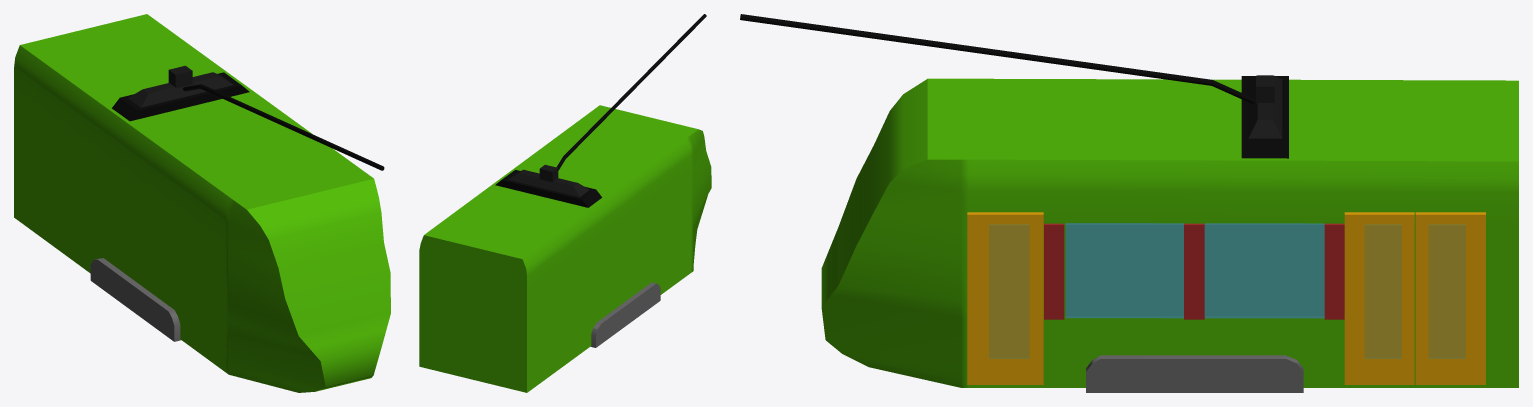
File: Twam.fbx
3 renders of one model, left to right at view 1: azimuth 30°, elevation 25°; view 2: azimuth 150°, elevation 25°; view 3: azimuth 270°, elevation 25°, orthographic. The views are drawn at different scales.
Visible parts, largest first — view 1: pCube1, pCube7, pCube3, pCube4, pCylinder3, pCube6; view 2: pCube1, pCube7, pCube3, pCube4, pCylinder3, pCube6; view 3: pCube1, pCube10, pCube13, pCube11, pCube17, pCube18, pCube5, pCylinder3, pCube19, pCube16, pCube14, pCube3 (+1 smaller).
Boxes of the visible parts, x1=… form: pCube1: x1=14, y1=14, x2=390, y2=392; pCube7: x1=90, y1=258, x2=181, y2=341; pCube3: x1=112, y1=72, x2=249, y2=121; pCube4: x1=128, y1=72, x2=233, y2=107; pCylinder3: x1=183, y1=84, x2=384, y2=170; pCube6: x1=168, y1=65, x2=192, y2=88; pCube1: x1=419, y1=105, x2=711, y2=392; pCube7: x1=590, y1=282, x2=660, y2=347; pCube3: x1=495, y1=170, x2=601, y2=207; pCube4: x1=508, y1=169, x2=589, y2=197; pCylinder3: x1=556, y1=14, x2=706, y2=170; pCube6: x1=539, y1=164, x2=558, y2=182; pCube1: x1=821, y1=78, x2=1518, y2=387; pCube10: x1=967, y1=212, x2=1043, y2=384; pCube13: x1=1415, y1=212, x2=1485, y2=384; pCube11: x1=1344, y1=212, x2=1414, y2=384; pCube17: x1=1205, y1=223, x2=1324, y2=318; pCube18: x1=1065, y1=223, x2=1183, y2=318; pCube5: x1=1086, y1=355, x2=1303, y2=392; pCylinder3: x1=740, y1=14, x2=1255, y2=104; pCube19: x1=1184, y1=223, x2=1204, y2=319; pCube16: x1=1044, y1=223, x2=1064, y2=319; pCube14: x1=1324, y1=223, x2=1344, y2=319; pCube3: x1=1241, y1=76, x2=1288, y2=158.
Size of the model in its own units: 0.8005 by 1.37 by 2.76.
